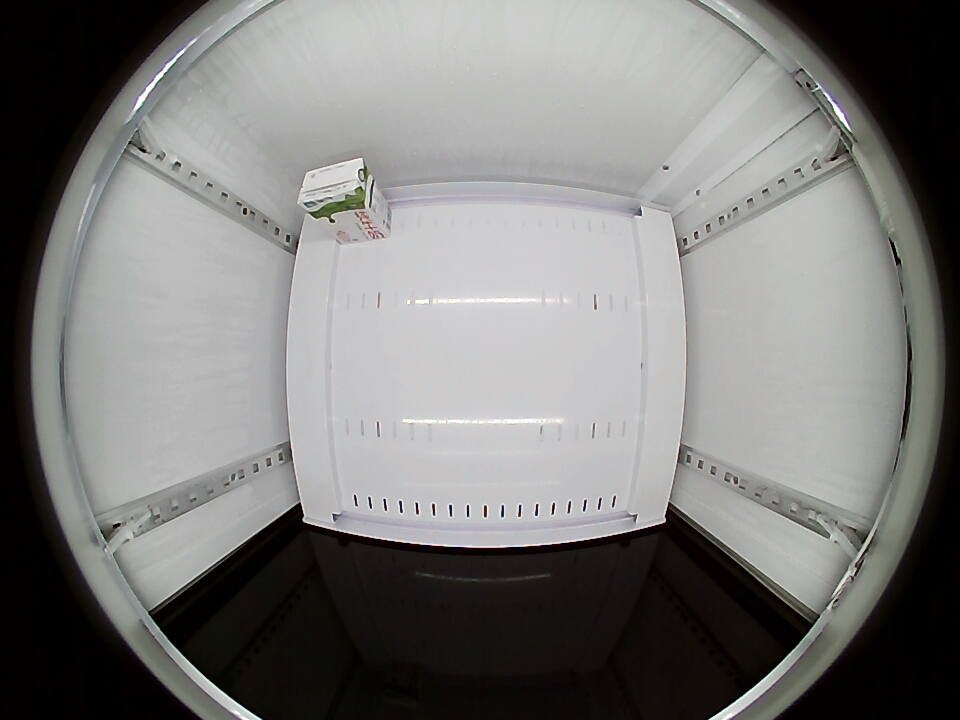mengniu: (298, 156, 373, 215)
